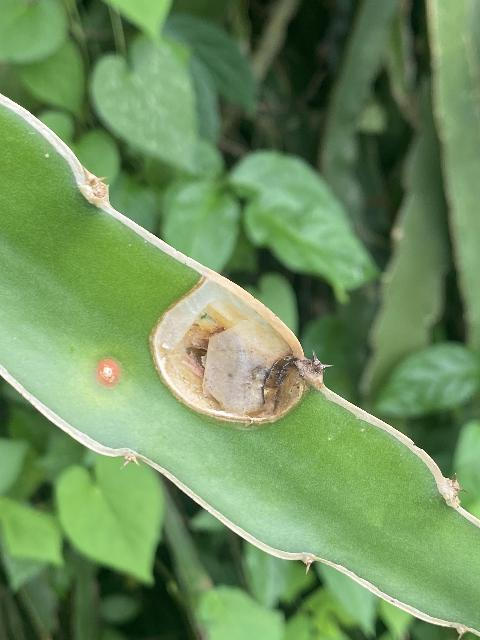stemcanker: (153, 275, 331, 423)
